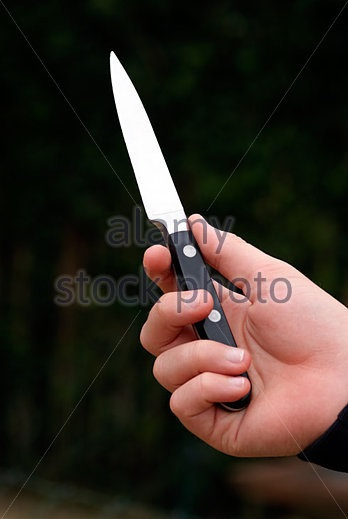knife: (103, 42, 239, 357)
